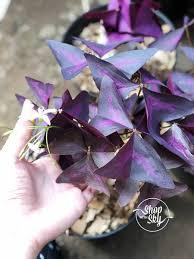butterfly flower: (107, 93, 187, 186), (53, 116, 115, 195)
